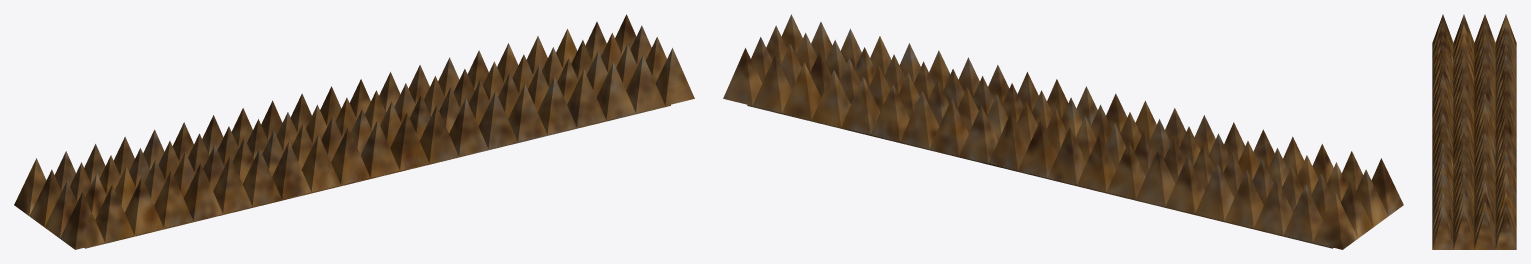
File: Spike_Pit_Platform_2_Spikes.fbx
3 views of the same model, side by side, from view 1: azimuth 30°, elevation 25°; view 2: azimuth 150°, elevation 25°; view 3: azimuth 270°, elevation 25° (orthographic). The views are drawn at different scales.
Parts seen in each view (by area): view 1: Spike_Pit_Platform_2_Spikes1; view 2: Spike_Pit_Platform_2_Spikes1; view 3: Spike_Pit_Platform_2_Spikes1.
Part boxes in pixels (left/top/right/bottom): Spike_Pit_Platform_2_Spikes1: left=14, top=14, right=694, bottom=249; Spike_Pit_Platform_2_Spikes1: left=723, top=14, right=1403, bottom=249; Spike_Pit_Platform_2_Spikes1: left=1432, top=14, right=1516, bottom=249.
Size of the model in its own units: 11.38 by 1 by 1.95.
